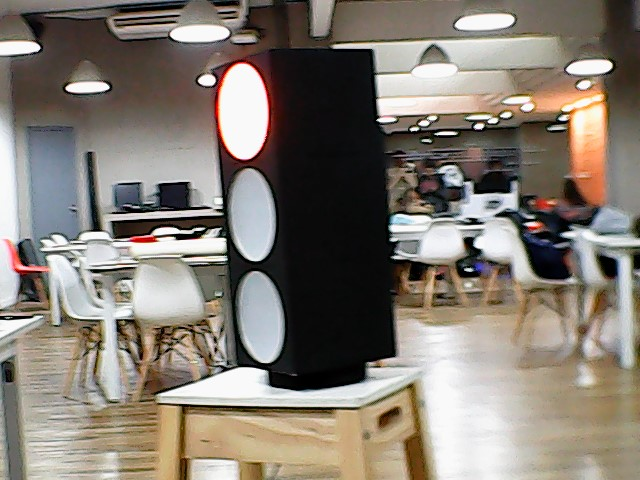vermelho: (203, 44, 403, 371)
